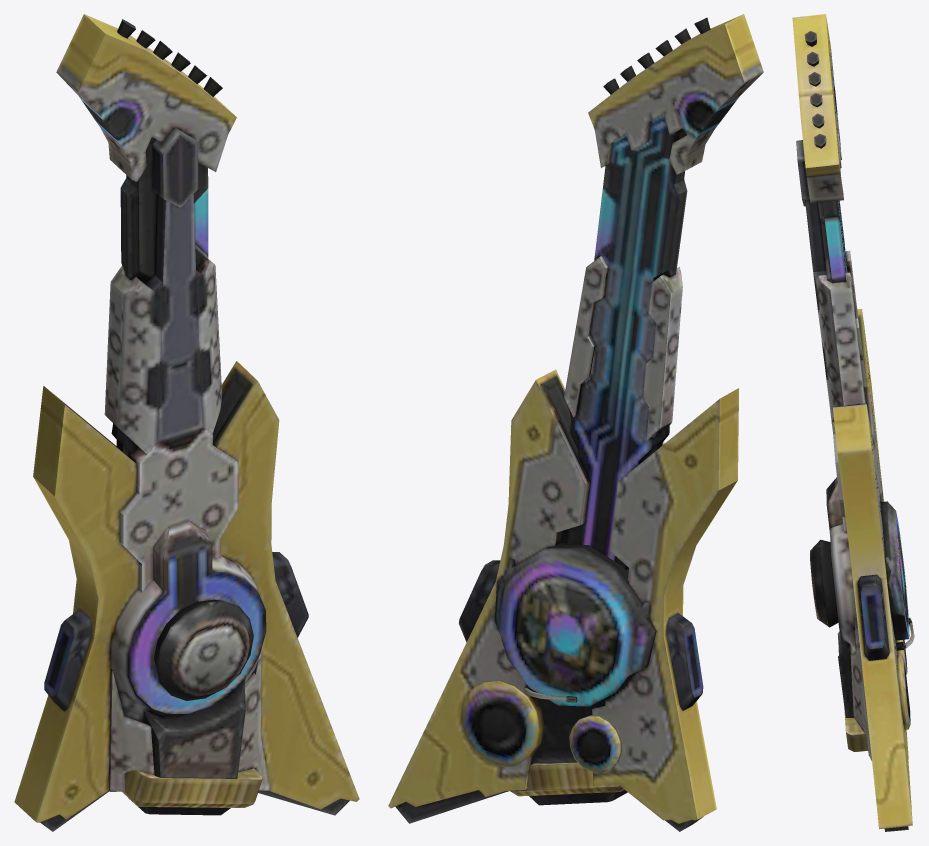
File: surfboard.obj
The picture shows the model from 3 angles, left to right: view 1: azimuth 30°, elevation 25°; view 2: azimuth 150°, elevation 25°; view 3: azimuth 270°, elevation 25°; orthographic projection. The views are drawn at different scales.
Visible parts, largest first — view 1: Preview_Air_Surfboard_Fashiontrends_0; view 2: Preview_Air_Surfboard_Fashiontrends_0; view 3: Preview_Air_Surfboard_Fashiontrends_0.
Part boxes in pixels (<box>): Preview_Air_Surfboard_Fashiontrends_0: <box>14,14,359,831</box>; Preview_Air_Surfboard_Fashiontrends_0: <box>388,14,763,831</box>; Preview_Air_Surfboard_Fashiontrends_0: <box>792,14,914,831</box>.
Size of the model in its own units: 1.03 by 2.65 by 0.4153.
1 material, 1 textured.
